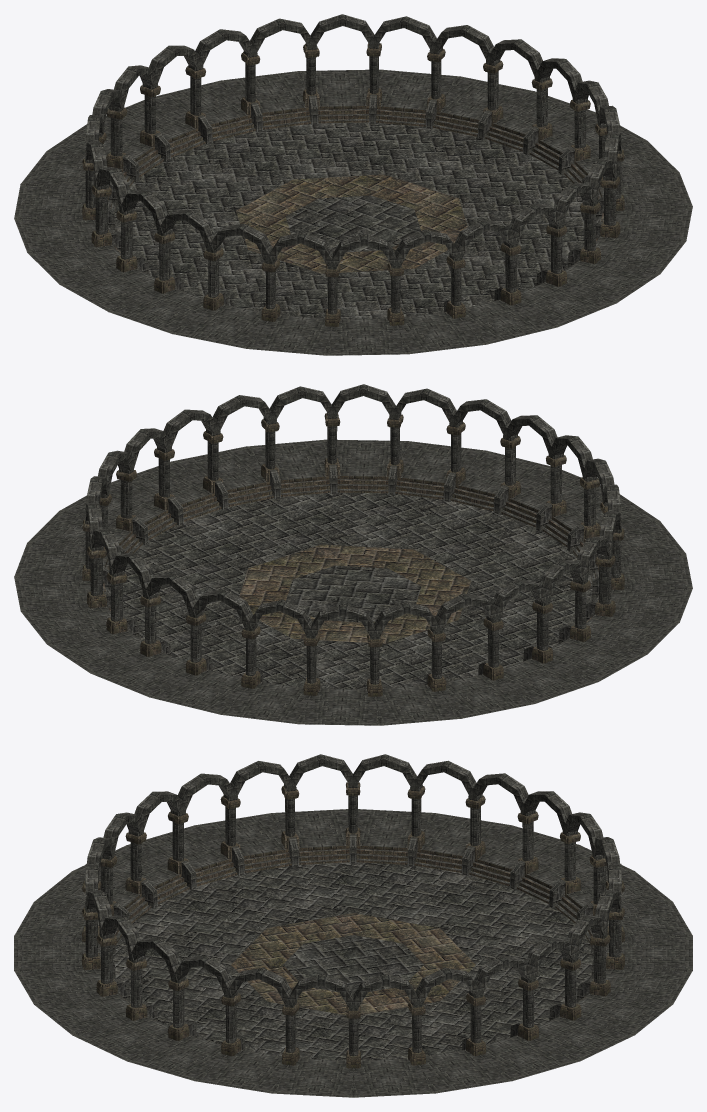
File: Boss2.fbx
3 renders of one model, top to bottom at view 1: azimuth 30°, elevation 25°; view 2: azimuth 150°, elevation 25°; view 3: azimuth 270°, elevation 25°, orthographic.
Visible parts, largest first — view 1: archway1, Floor; view 2: archway1, Floor; view 3: archway1, Floor.
Boxes of the visible parts, x1,y1,x2,y2 form: archway1: (14, 14, 692, 355); Floor: (113, 122, 584, 319); archway1: (14, 384, 692, 725); Floor: (123, 492, 593, 689); archway1: (14, 754, 692, 1097); Floor: (113, 862, 593, 1060).
Size of the model in its own units: 4362 by 702 by 4331.
Materials: 4 (4 with a texture image).
